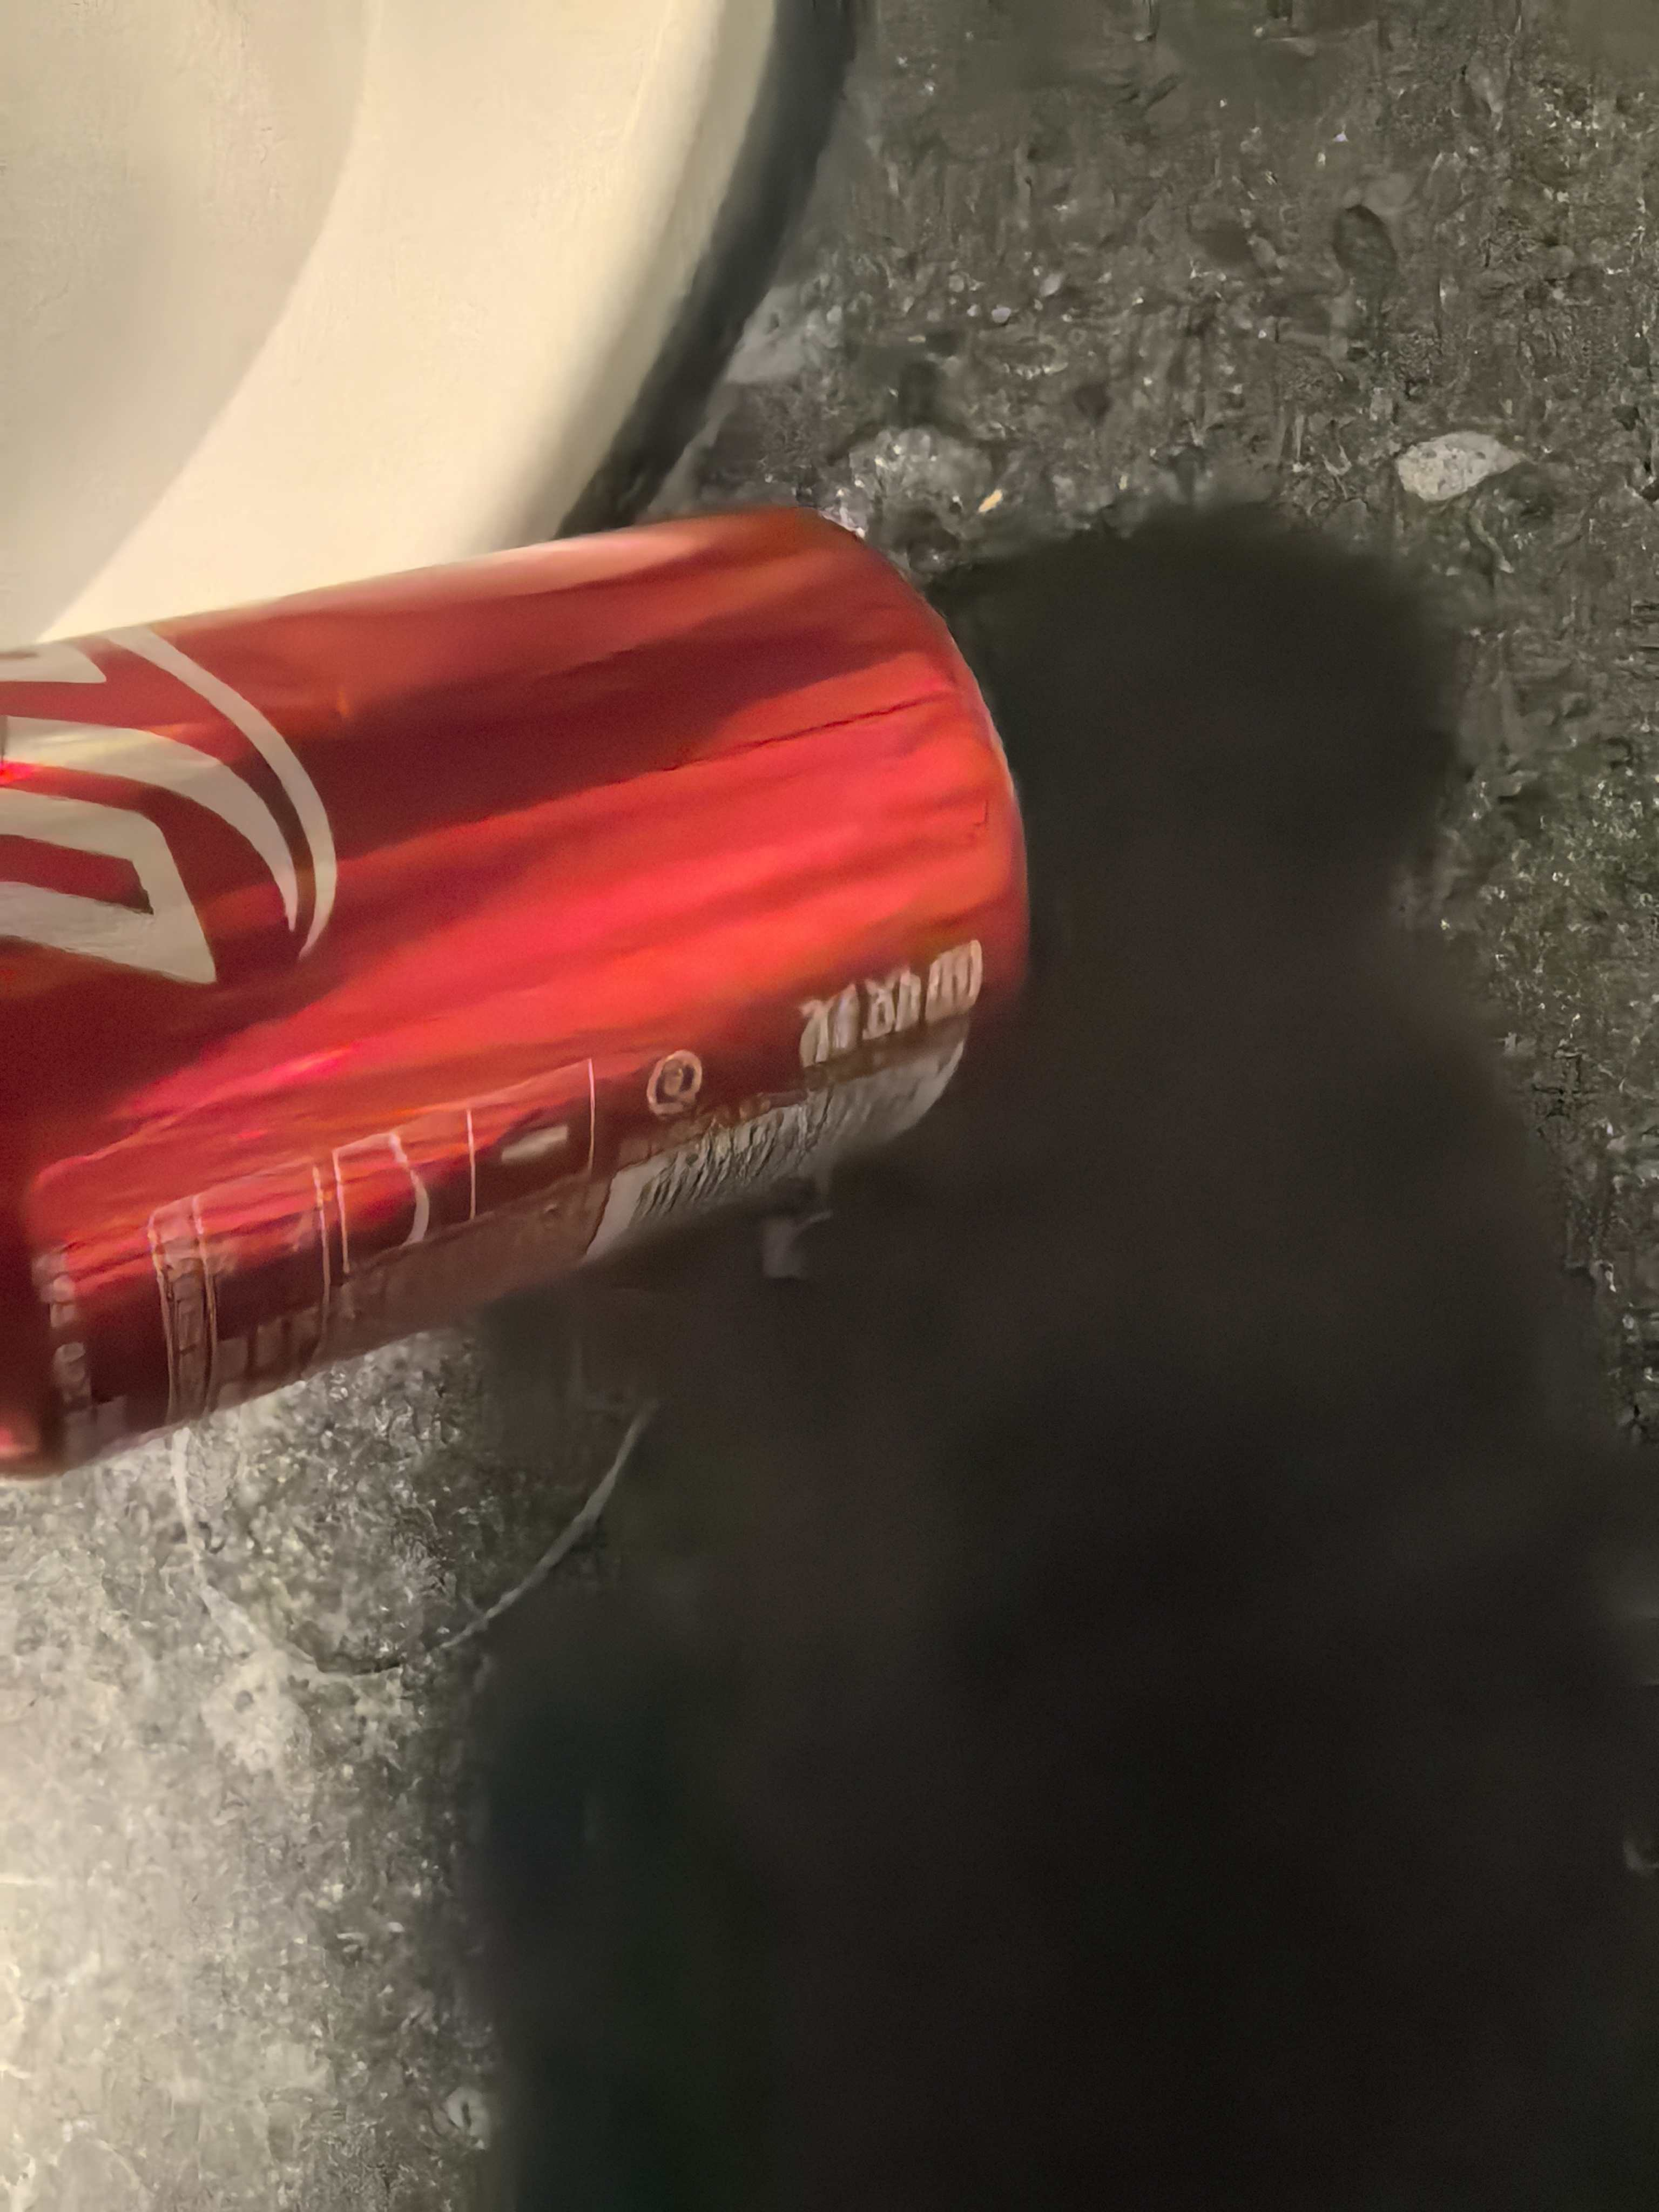可乐: (2, 519, 1089, 1494)
